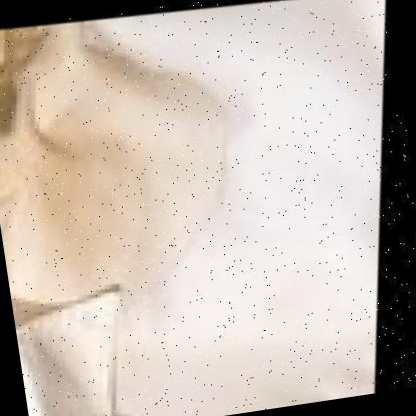coffee: (0, 52, 132, 225)
